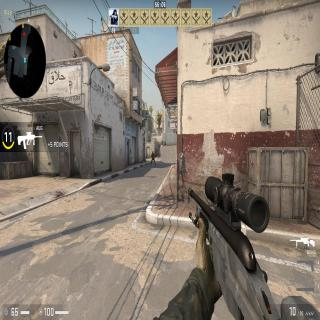T-Body: (150, 150, 156, 166)
T-Head: (152, 151, 154, 154)
